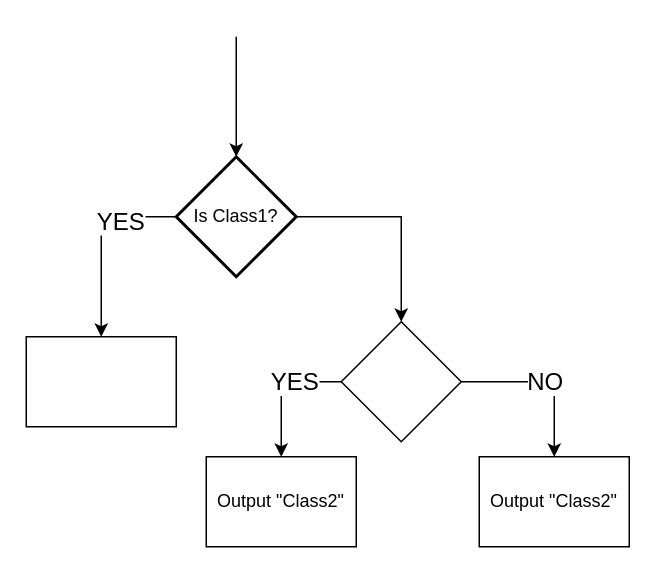
This 656x573 diagram has some shape labels left out. The shapes that lost their labels are listed below. From the top down, each one's centre as x and y in pixels, then its label:
pixel 100 381: Output "Class1"
pixel 400 381: Is Class2?
